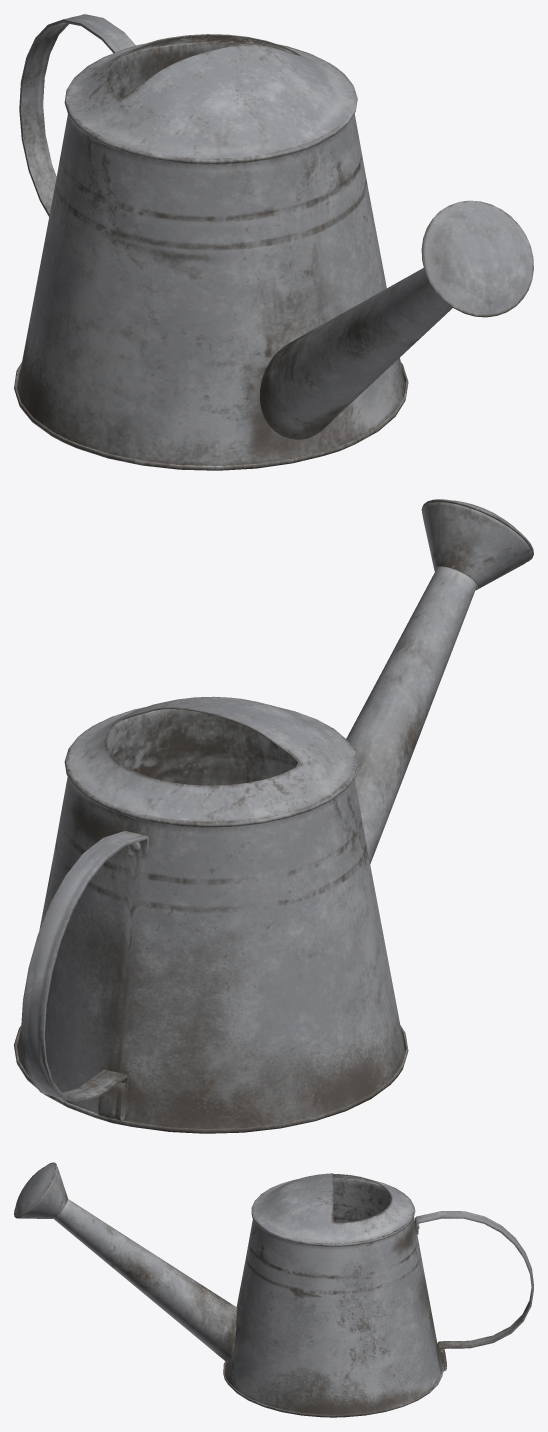
The model's file is watering-can.glb.
The picture shows the model from 3 angles, top to bottom: view 1: azimuth 30°, elevation 25°; view 2: azimuth 150°, elevation 25°; view 3: azimuth 270°, elevation 25°; orthographic projection. The views are drawn at different scales.
Visible parts, largest first — view 1: watering_can_metal_01; view 2: watering_can_metal_01; view 3: watering_can_metal_01.
Boxes of the visible parts, bbox=[...] form: watering_can_metal_01: bbox=[14, 14, 533, 470]; watering_can_metal_01: bbox=[14, 499, 533, 1133]; watering_can_metal_01: bbox=[14, 1162, 533, 1417].
Bounding box in the file's own units: 0.5338 × 0.55 × 1.26.
Materials: 1 (1 with a texture image).
